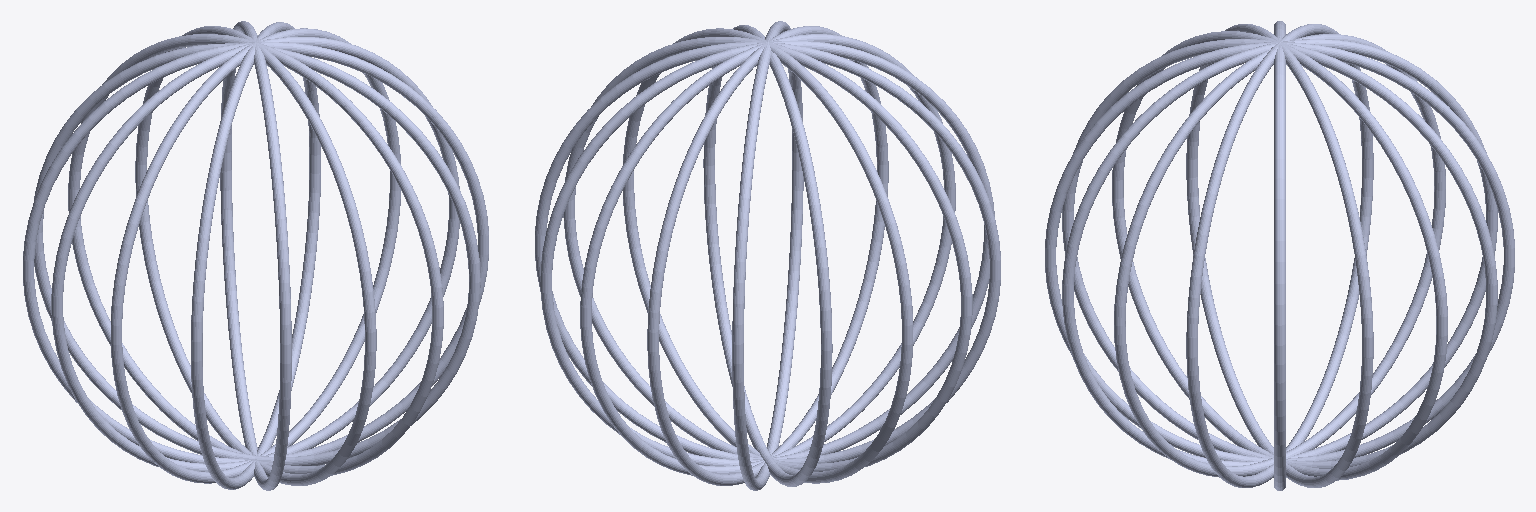
3 views of the same model, side by side, from view 1: azimuth 30°, elevation 25°; view 2: azimuth 150°, elevation 25°; view 3: azimuth 270°, elevation 25° (orthographic).
Parts seen in each view (by area): view 1: Body_1; view 2: Body_1; view 3: Body_1.
Boxes of the visible parts, box(x1,y1,x2,y2) form: Body_1: box(23, 21, 488, 490); Body_1: box(535, 21, 1000, 490); Body_1: box(1045, 21, 1514, 490).
Size of the model in its own units: 0.04 by 0.04 by 0.04.